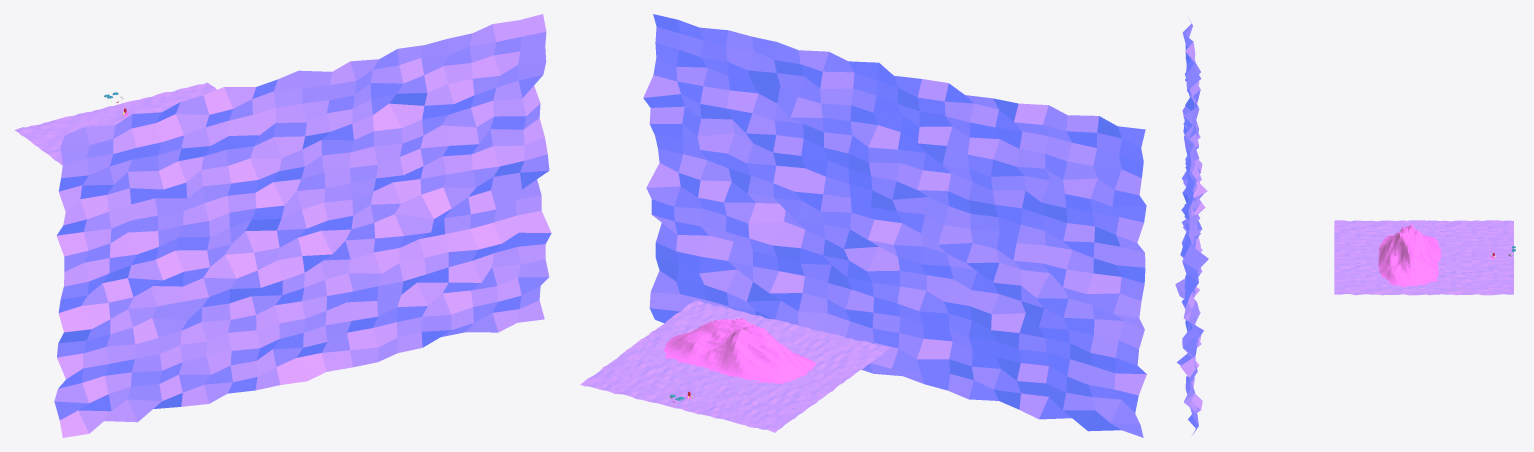
Rendered from World Low Poly.fbx.
3 views of the same model, side by side, from view 1: azimuth 30°, elevation 25°; view 2: azimuth 150°, elevation 25°; view 3: azimuth 270°, elevation 25° (orthographic). The views are drawn at different scales.
Visible parts, largest first — view 1: Sky, Sea; view 2: Sky, Sea, Sea_1, Mountain; view 3: Sea, Sky, Sea_1, Mountain.
Part boxes in pixels (<box>): Sky: <box>54,14,551,437</box>; Sea: <box>14,82,216,164</box>; Sky: <box>643,14,1146,437</box>; Sea: <box>580,335,842,432</box>; Sea_1: <box>631,300,890,397</box>; Mountain: <box>663,318,816,383</box>; Sea: <box>1408,220,1513,295</box>; Sky: <box>1175,19,1208,436</box>; Sea_1: <box>1334,220,1439,295</box>; Mountain: <box>1378,224,1441,286</box>.
Size of the model in its own units: 110763 by 66627 by 87079.
